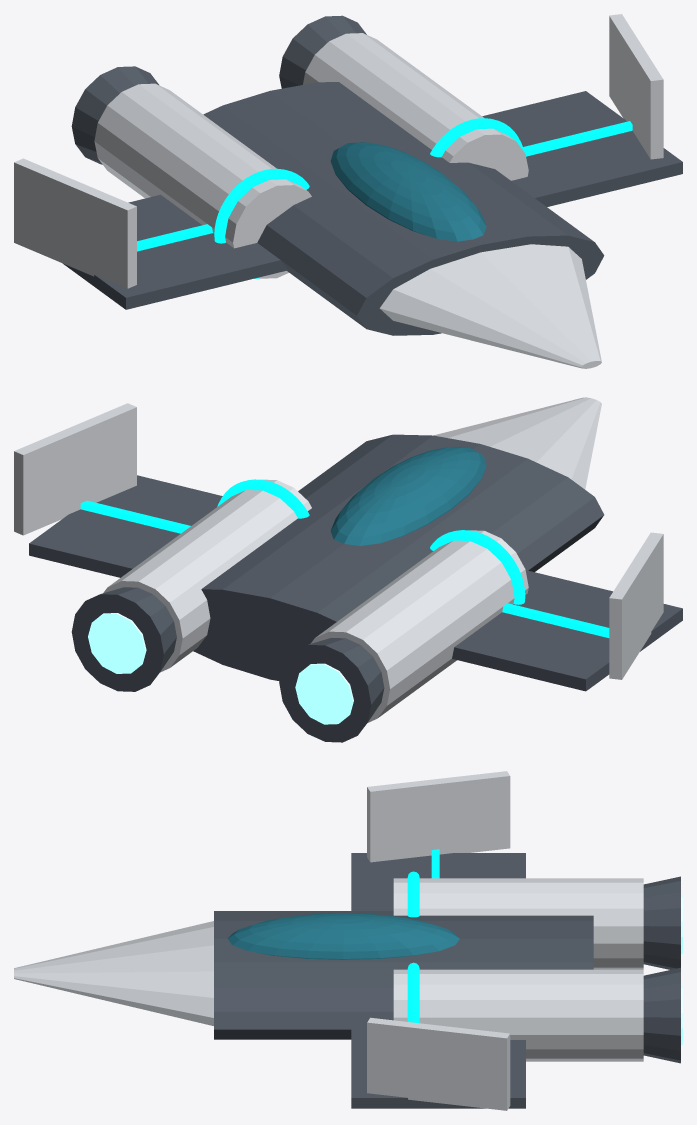
Rendered from spaceship.glb.
3 renders of one model, top to bottom at view 1: azimuth 30°, elevation 25°; view 2: azimuth 150°, elevation 25°; view 3: azimuth 270°, elevation 25°, orthographic. The views are drawn at different scales.
Parts seen in each view (by area): view 1: Ship_Fuselage, Ship_Wings, Ship_Nose, Cylinder, Cylinder.002, Cube, Ship_Canopy, Cube.002, Cone, Cone.001, Torus, Cube.003 (+2 smaller); view 2: Ship_Fuselage, Ship_Wings, Cylinder, Cylinder.002, Cube.002, Ship_Canopy, Ship_Nose, Cone.001, Cone, Cube, Cylinder.001, Cylinder.003 (+4 smaller); view 3: Ship_Fuselage, Cylinder.002, Cylinder, Ship_Nose, Cube.002, Cube, Ship_Wings, Ship_Canopy, Cone.001, Cone, Torus.001, Torus.
Boxes of the visible parts, x1=… form: Ship_Fuselage: x1=203, y1=82, x2=604, y2=335; Ship_Wings: x1=63, y1=91, x2=682, y2=309; Ship_Nose: x1=379, y1=244, x2=601, y2=368; Cylinder: x1=94, y1=83, x2=311, y2=278; Cylinder.002: x1=303, y1=33, x2=528, y2=180; Cube: x1=14, y1=158, x2=136, y2=288; Ship_Canopy: x1=330, y1=142, x2=486, y2=241; Cube.002: x1=609, y1=14, x2=663, y2=159; Cone: x1=71, y1=66, x2=158, y2=164; Cone.001: x1=279, y1=15, x2=366, y2=88; Torus: x1=214, y1=168, x2=309, y2=278; Cube.003: x1=523, y1=121, x2=632, y2=156; Ship_Fuselage: x1=193, y1=434, x2=604, y2=680; Ship_Wings: x1=29, y1=475, x2=682, y2=691; Cylinder: x1=310, y1=530, x2=528, y2=722; Cylinder.002: x1=103, y1=479, x2=311, y2=672; Cube.002: x1=14, y1=403, x2=136, y2=535; Ship_Canopy: x1=330, y1=446, x2=486, y2=545; Ship_Nose: x1=433, y1=397, x2=601, y2=489; Cone.001: x1=71, y1=587, x2=176, y2=691; Cone: x1=279, y1=638, x2=384, y2=742; Cube: x1=609, y1=532, x2=663, y2=679; Cylinder.001: x1=295, y1=663, x2=353, y2=724; Cylinder.003: x1=88, y1=613, x2=146, y2=673; Ship_Fuselage: x1=214, y1=911, x2=593, y2=1039; Cylinder.002: x1=393, y1=969, x2=643, y2=1061; Cylinder: x1=393, y1=878, x2=643, y2=969; Ship_Nose: x1=14, y1=921, x2=213, y2=1025; Cube.002: x1=367, y1=1017, x2=510, y2=1110; Cube: x1=367, y1=771, x2=510, y2=862; Ship_Wings: x1=351, y1=853, x2=525, y2=1108; Ship_Canopy: x1=227, y1=913, x2=459, y2=959; Cone.001: x1=643, y1=967, x2=680, y2=1063; Cone: x1=643, y1=876, x2=680, y2=969; Torus.001: x1=407, y1=962, x2=419, y2=1023; Torus: x1=407, y1=871, x2=419, y2=917.
Size of the model in its own units: 6.33 by 1.25 by 6.7.
